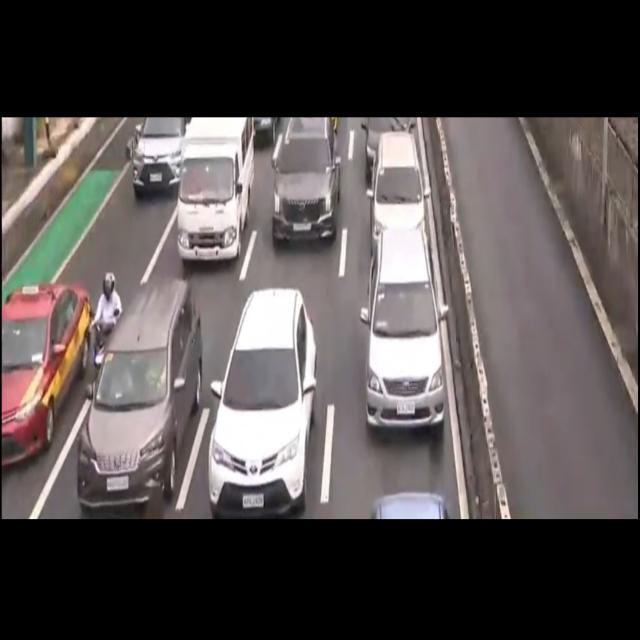Motorcycle: (89, 267, 122, 394)
Pick-up: (182, 115, 255, 264)
SUV: (68, 283, 192, 507), (207, 276, 318, 516), (354, 227, 446, 443), (269, 120, 343, 252), (367, 136, 429, 255), (130, 113, 186, 194)
Sedan: (4, 278, 88, 461)
